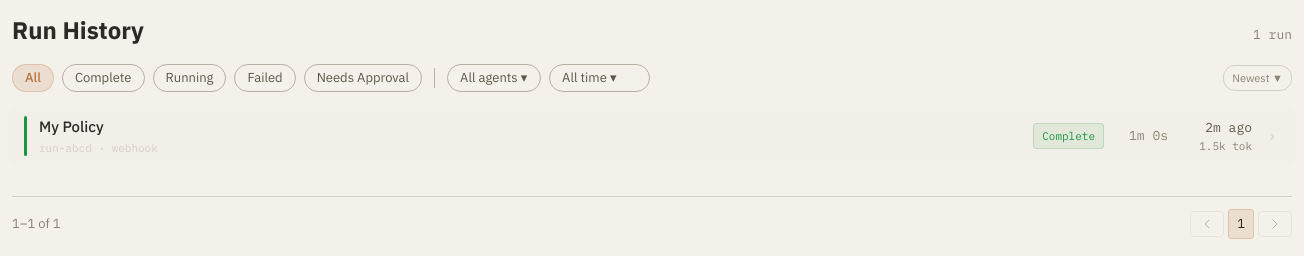
it: RunsPage — sort chip › sort chip toggles to "oldest" on click
Click the button with aria-label "sort by date, currently newest first": (1258, 78) [1223, 65, 1292, 91]
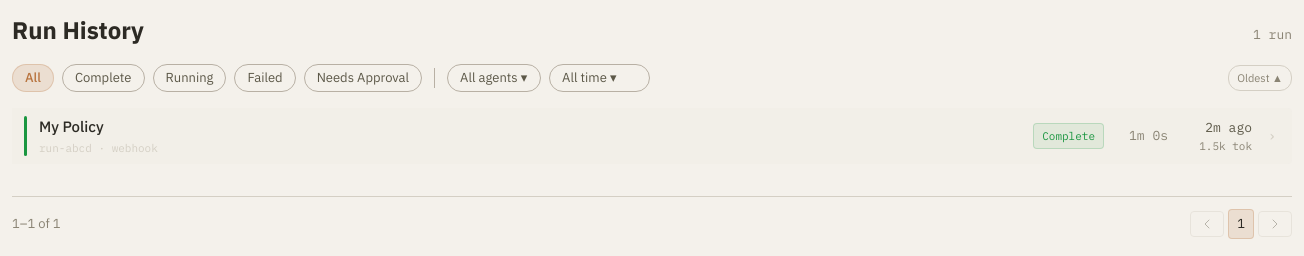
Result: the button with aria-label "sort by date, currently oldest first" is shown at [1228, 65, 1292, 91]
